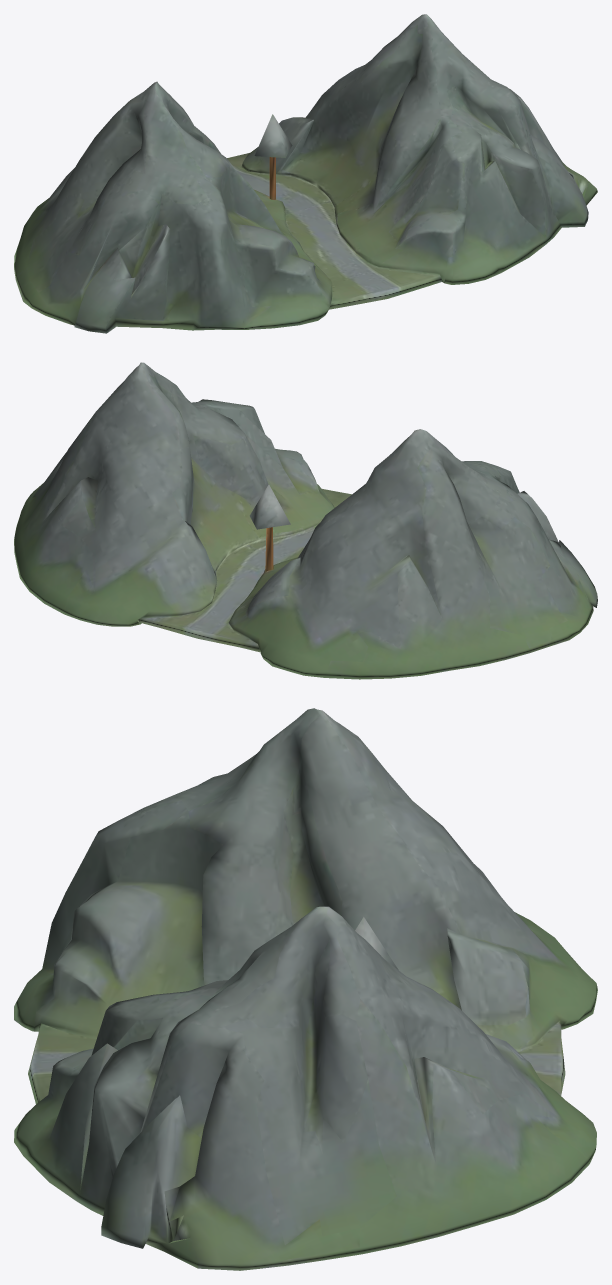
File: saddle.glb
3 views of the same model, one above another, from view 1: azimuth 30°, elevation 25°; view 2: azimuth 150°, elevation 25°; view 3: azimuth 270°, elevation 25° (orthographic). The views are drawn at different scales.
Size of the model in its own units: 0.9644 by 0.3027 by 0.5967.
Materials: 1 (1 with a texture image).
